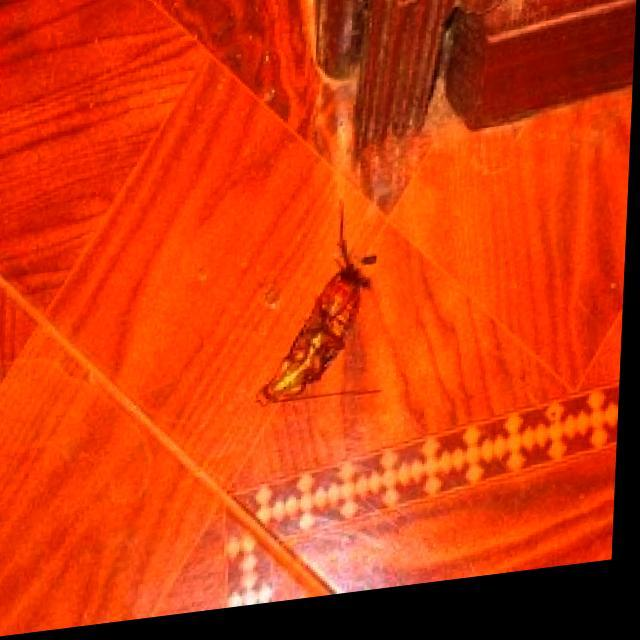cockroach: (253, 197, 385, 410)
